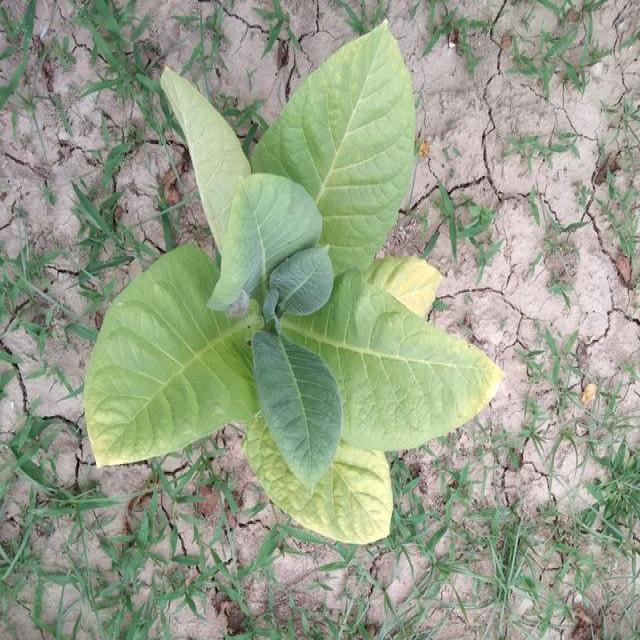crop: (75, 14, 509, 554)
